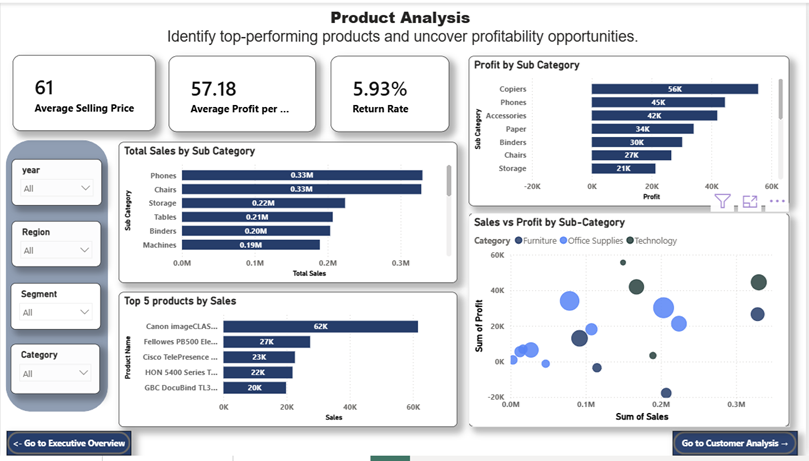

Layout of this report page (visuals, bound fields, positions):
{"tool":"powerbi","page":{"name":"Product Analysis","canvas":[1280,720],"ordinal":1},"visuals":[{"type":"shape","box":[8.1,217.7,162.9,432.3],"z":0},{"type":"textbox","title":"guhgh","box":[0,0,1278.9,82.5],"z":1000},{"type":"slicer","fields":{"Values":["Orders.Region"]},"box":[17.7,346.8,141.9,72.6],"z":2000},{"type":"slicer","fields":{"Values":["Orders.Segment"]},"box":[16.1,445.2,143.5,74.2],"z":3000},{"type":"slicer","fields":{"Values":["Datetable.year"]},"box":[17.7,248.4,143.5,74.2],"z":4000},{"type":"slicer","fields":{"Values":["Orders.Category"]},"box":[16.1,541.9,141.9,79],"z":5000},{"type":"actionButton","title":"Go to Product Analysis →","box":[1069.4,680.6,198.4,38.7],"z":6000},{"type":"cardVisual","fields":{"Data":["Measure table.avg_selling_price"]},"box":[19.4,82.3,227.4,121],"z":7000},{"type":"cardVisual","fields":{"Data":["Measure table.average_profit_per_order"]},"box":[267.7,83.9,233.9,121],"z":8000},{"type":"barChart","fields":{"Category":["Orders.Sub-Category"],"Y":["Sum(Orders.Sales)"]},"box":[187.1,221,538.7,224.2],"z":9000},{"type":"clusteredBarChart","fields":{"Category":["Orders.Sub-Category"],"Y":["Sum(Orders.Profit)"]},"box":[745.2,83.9,509.7,238.7],"z":10000},{"type":"barChart","title":"Top 5 products by Sales","fields":{"Category":["Orders.Product Name"],"Y":["Sum(Orders.Sales)"]},"box":[187.1,459.7,538.7,214.5],"z":11000},{"type":"scatterChart","title":"Sales vs Profit by Sub-Category","fields":{"X":["Sum(Orders.Sales)"],"Y":["Sum(Orders.Profit)"],"Size":["Sum(Orders.Quantity)"],"Category":["Orders.Sub-Category"],"Series":["Orders.Category"]},"box":[745.2,333.9,509.7,340.3],"z":12000},{"type":"cardVisual","fields":{"Data":["Measure table.return_rate"]},"box":[524.2,83.9,188.7,121],"z":13000},{"type":"actionButton","title":"Go to Product Analysis →","box":[8.8,680.7,198.2,38.6],"z":14000}]}

Visuals, with their boxes in screenshot pixels (x1, y1, x2, y2), scaled from the page's 1280x720 canvas onto the 809x461 screenshot:
shape: locate(5, 139, 108, 416)
"guhgh" textbox: locate(0, 0, 808, 53)
slicer - Orders.Region: locate(11, 222, 101, 269)
slicer - Orders.Segment: locate(10, 285, 101, 333)
slicer - Datetable.year: locate(11, 159, 102, 207)
slicer - Orders.Category: locate(10, 347, 100, 398)
"Go to Product Analysis →" actionButton: locate(676, 436, 801, 460)
cardVisual - Measure table.avg_selling_price: locate(12, 53, 156, 130)
cardVisual - Measure table.average_profit_per_order: locate(169, 54, 317, 131)
barChart - Orders.Sub-Category x Sum(Orders.Sales): locate(118, 142, 459, 285)
clusteredBarChart - Orders.Sub-Category x Sum(Orders.Profit): locate(471, 54, 793, 207)
"Top 5 products by Sales" barChart: locate(118, 294, 459, 432)
"Sales vs Profit by Sub-Category" scatterChart: locate(471, 214, 793, 432)
cardVisual - Measure table.return_rate: locate(331, 54, 451, 131)
"Go to Product Analysis →" actionButton: locate(6, 436, 131, 460)
